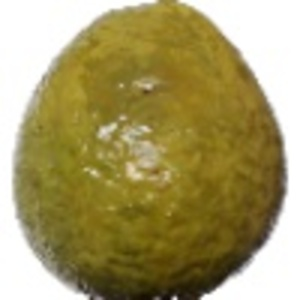goiaba: (12, 3, 286, 294)
